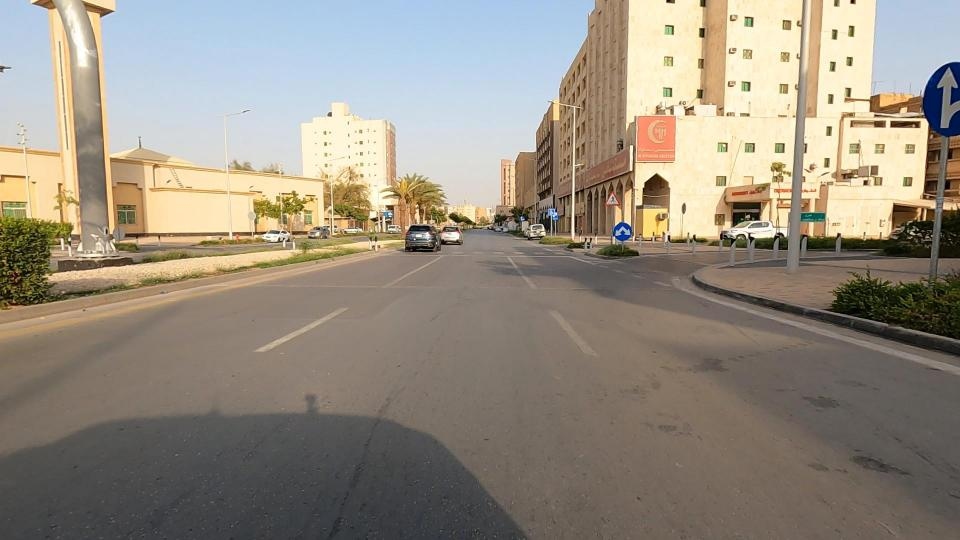BAD_BILLBOARD: (510, 140, 694, 213)
